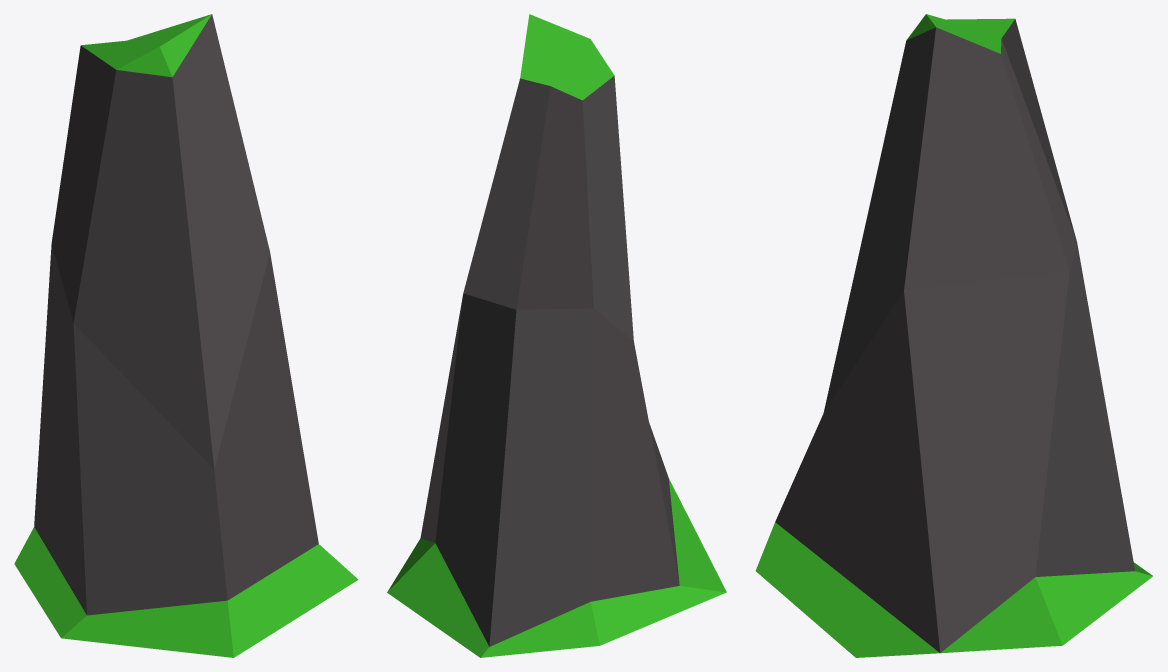
The model's file is spike1.fbx.
3 renders of one model, left to right at view 1: azimuth 30°, elevation 25°; view 2: azimuth 150°, elevation 25°; view 3: azimuth 270°, elevation 25°, orthographic. The views are drawn at different scales.
Parts seen in each view (by area): view 1: Circle.003; view 2: Circle.003; view 3: Circle.003.
Boxes of the visible parts, bbox=[...] form: Circle.003: bbox=[14, 14, 358, 657]; Circle.003: bbox=[387, 14, 726, 657]; Circle.003: bbox=[755, 14, 1152, 657].
Size of the model in its own units: 581 by 1099 by 687.
